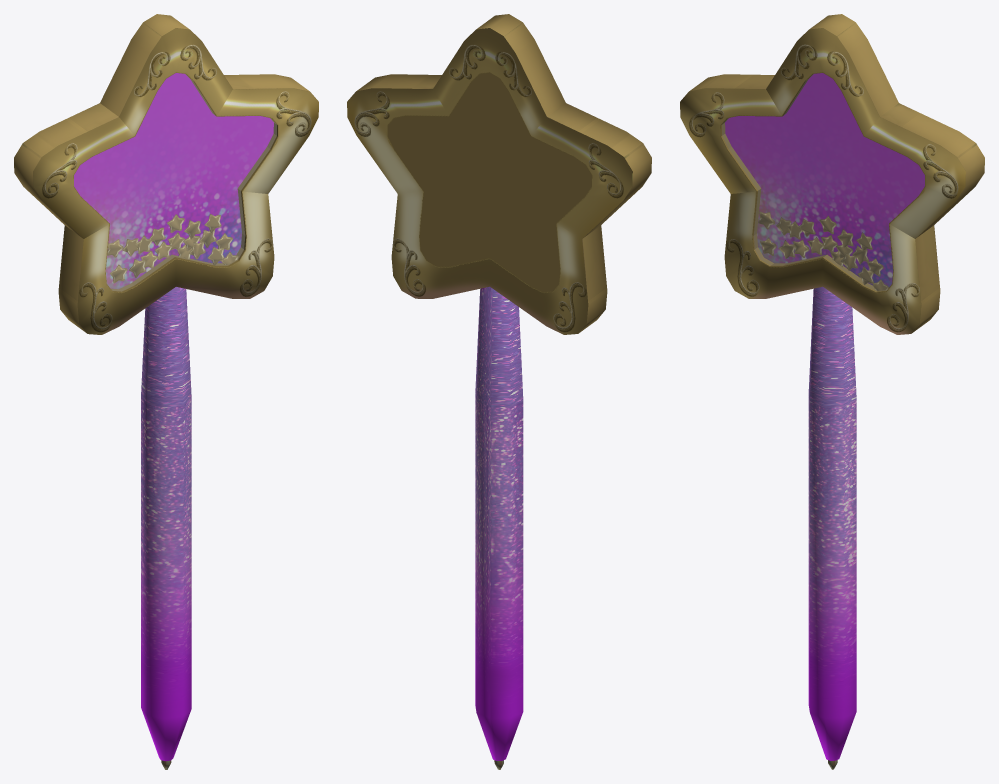
File: GlitterPen12.fbx
3 views of the same model, side by side, from view 1: azimuth 30°, elevation 25°; view 2: azimuth 150°, elevation 25°; view 3: azimuth 330°, elevation 25° (orthographic).
Visible parts, largest first — view 1: Pen.001; view 2: Pen.001; view 3: Pen.001.
Boxes of the visible parts, box(x1,y1,x2,y2) form: Pen.001: box(14, 14, 318, 769); Pen.001: box(347, 14, 651, 769); Pen.001: box(680, 14, 984, 769).
Bounding box in the file's own units: 5843 × 14626 × 883.
2 materials, 1 textured.
